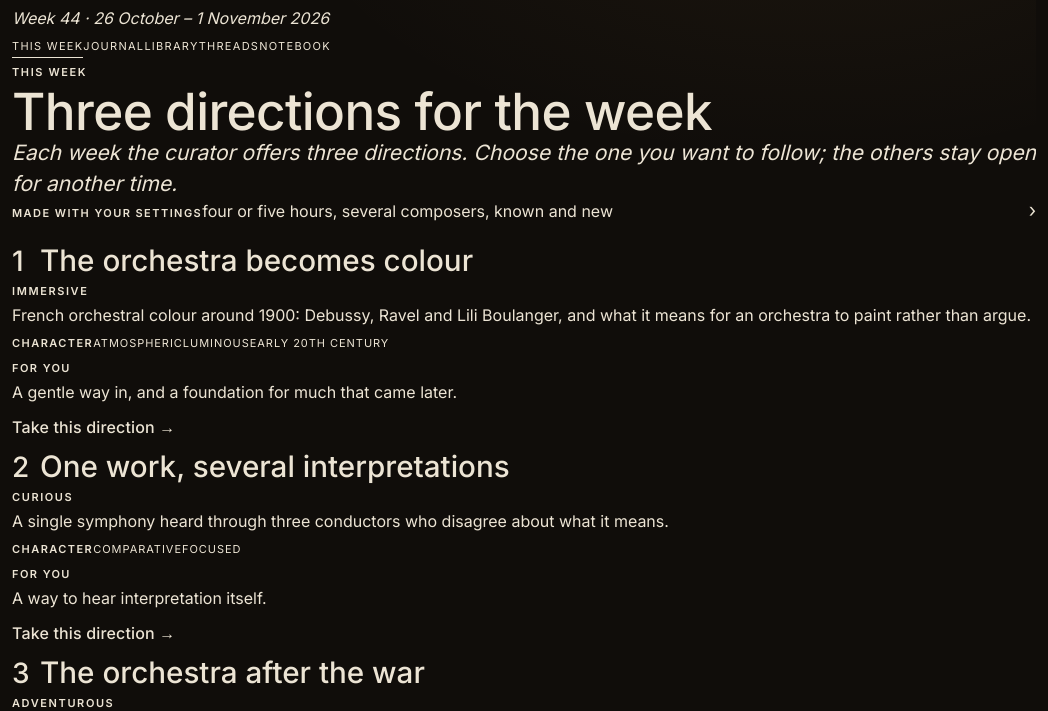
Test: The Long Listen › holds no side-by-side pair unless the listener asked for one
Expected: the heading "Three directions for the week" is shown, 12,80 -> 712,142
Click the button "Take this direction →" below "atmospheric". click: (94, 427)
box: 12,405 -> 175,449
(page scrolled)
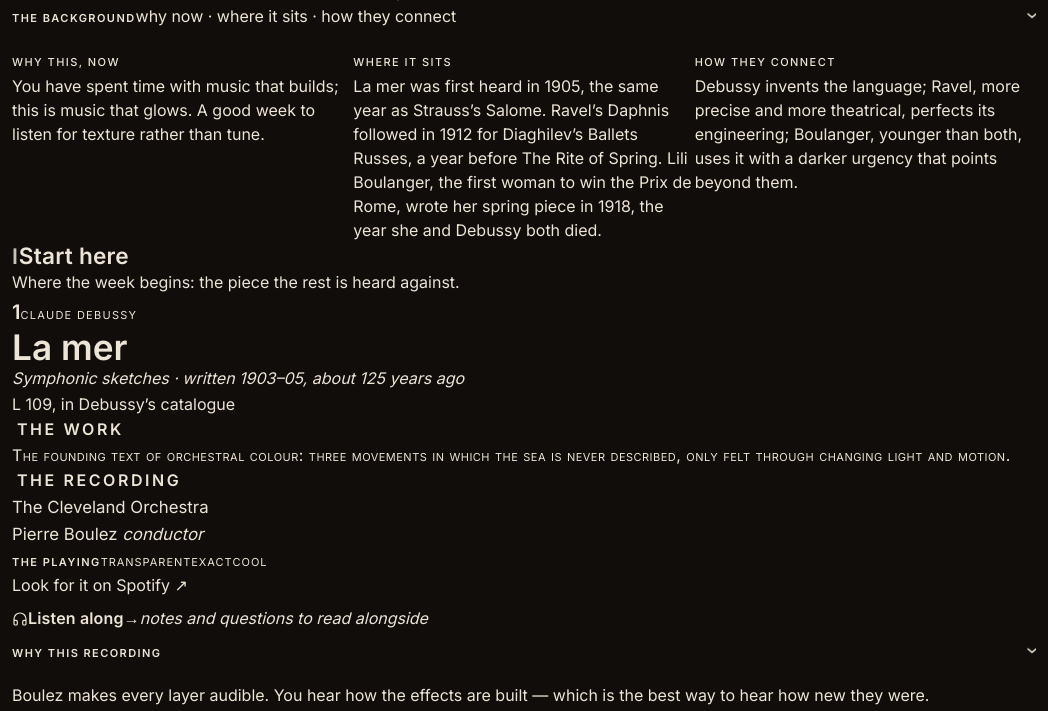
Expected: the heading "La mer" is shown, 12,326 -> 127,368
